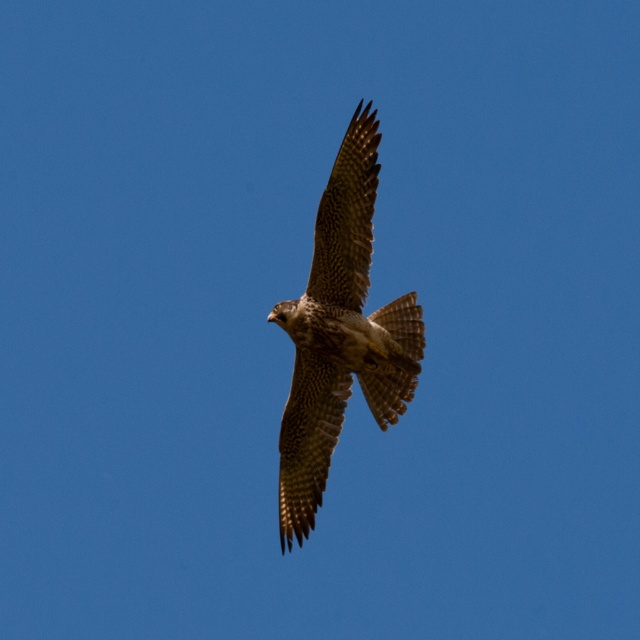Eagle: (265, 99, 430, 563)
